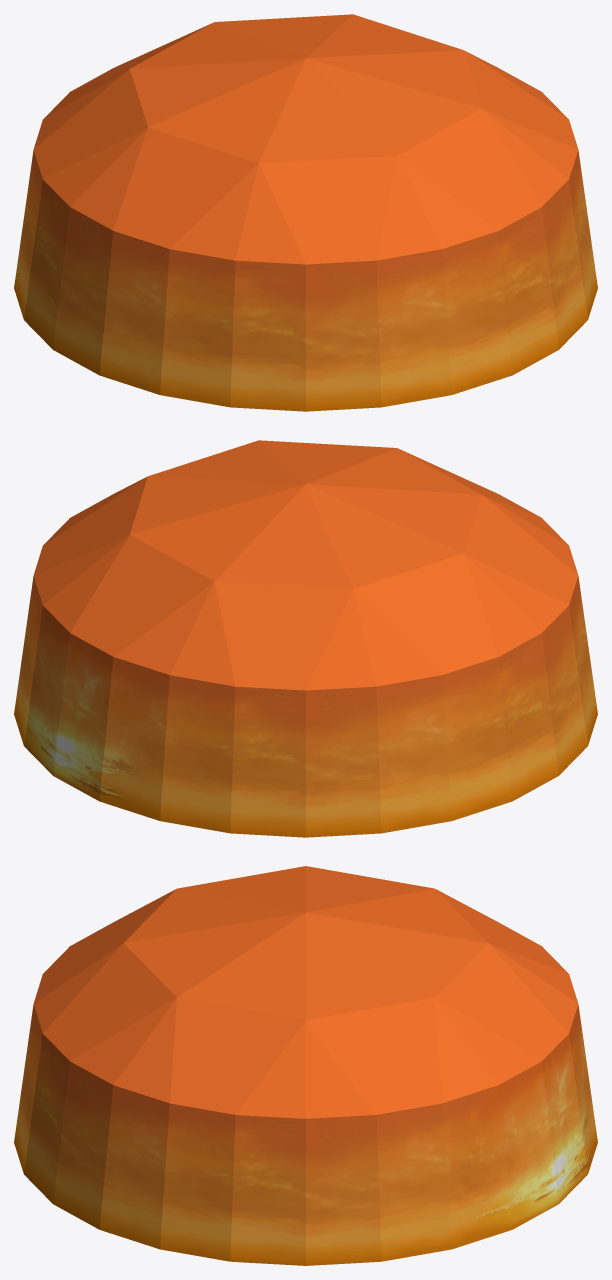
The model's file is Skybox4.obj.
3 views of the same model, one above another, from view 1: azimuth 30°, elevation 25°; view 2: azimuth 150°, elevation 25°; view 3: azimuth 270°, elevation 25° (orthographic).
Parts seen in each view (by area): view 1: obj1; view 2: obj1; view 3: obj1.
Part boxes in pixels (box(x1,y1,x2,y2)): obj1: box(14, 14, 597, 411); obj1: box(14, 440, 597, 837); obj1: box(14, 866, 597, 1265).
Size of the model in its own units: 100000 by 43708 by 100000.
Materials: 8 (8 with a texture image).
